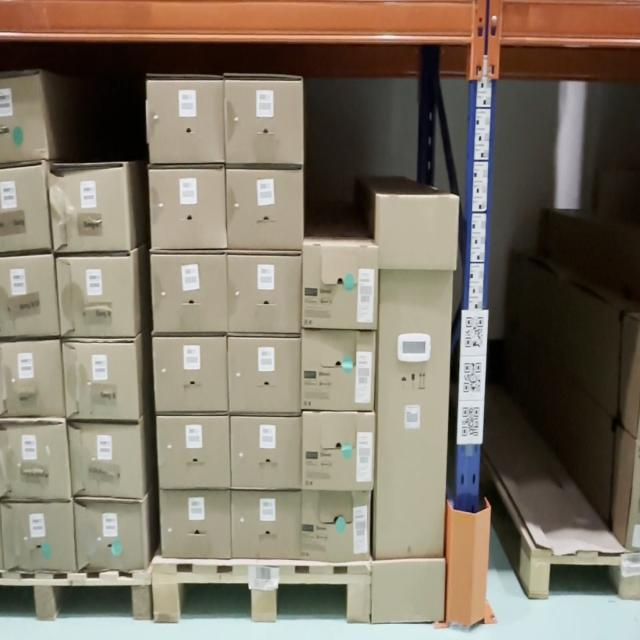box: (373, 198, 456, 620), (50, 167, 130, 250), (150, 254, 228, 334), (148, 84, 224, 165), (226, 82, 300, 164), (227, 172, 302, 250), (151, 168, 226, 246), (302, 334, 376, 413), (57, 258, 131, 336), (304, 252, 376, 330), (64, 345, 137, 421), (157, 416, 232, 489), (70, 424, 143, 498), (228, 341, 300, 414), (154, 338, 227, 410), (228, 258, 299, 332), (232, 418, 301, 490), (304, 416, 374, 485), (161, 491, 230, 557), (75, 504, 144, 570), (230, 492, 299, 554), (305, 497, 369, 556)
